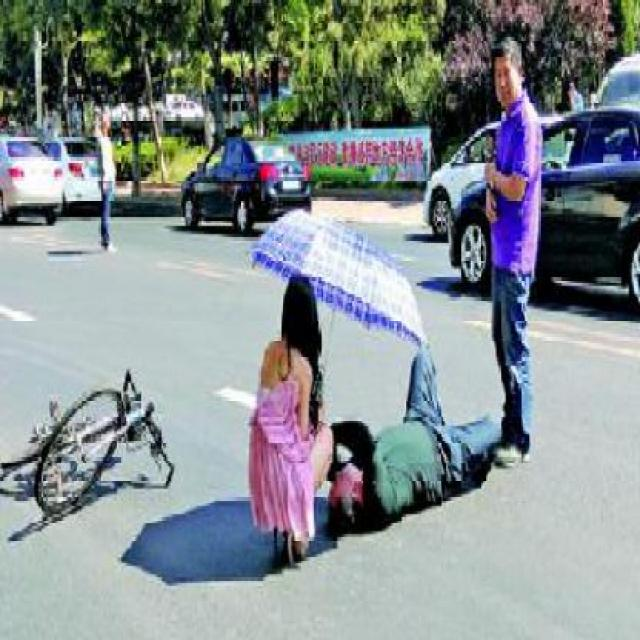fall: (312, 328, 506, 548)
